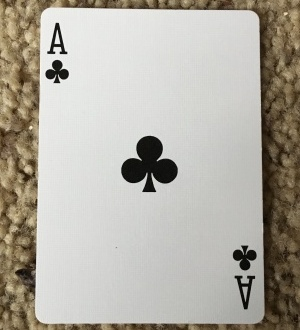card: (35, 5, 264, 325)
